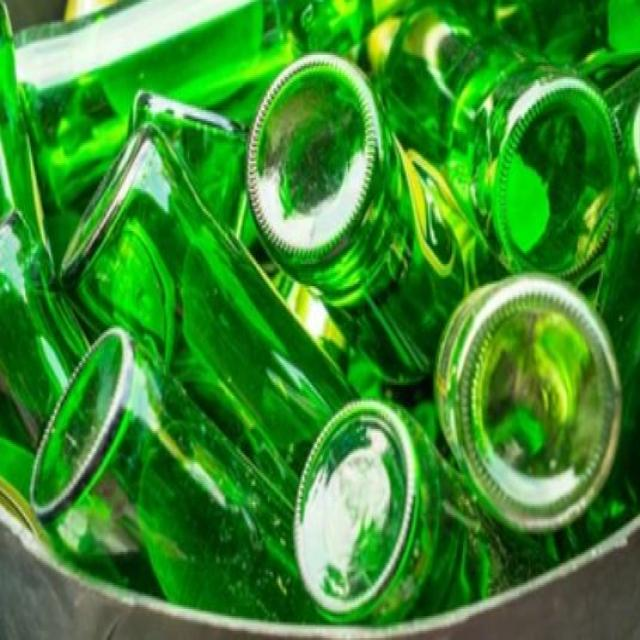electronic: (59, 124, 382, 524), (25, 324, 295, 638), (243, 51, 480, 391), (368, 0, 628, 292), (294, 397, 562, 640), (433, 271, 625, 541)
